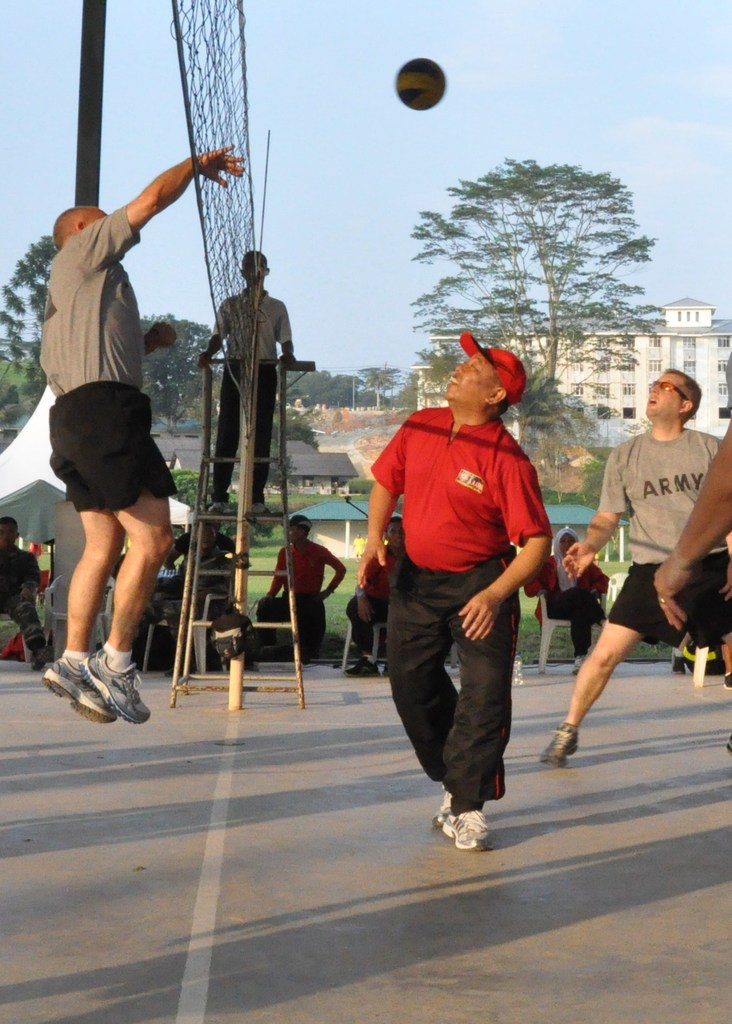Person: (649, 409, 732, 665), (520, 530, 615, 674), (345, 514, 403, 677), (0, 518, 40, 660)
